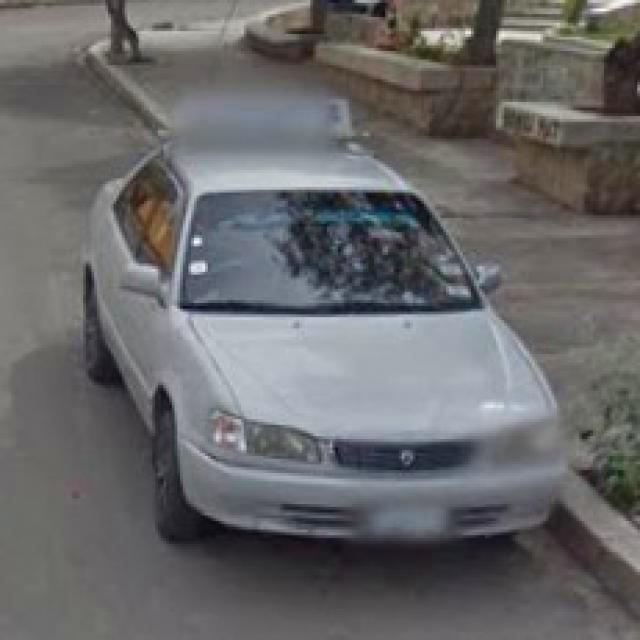Car: (78, 116, 560, 586)
